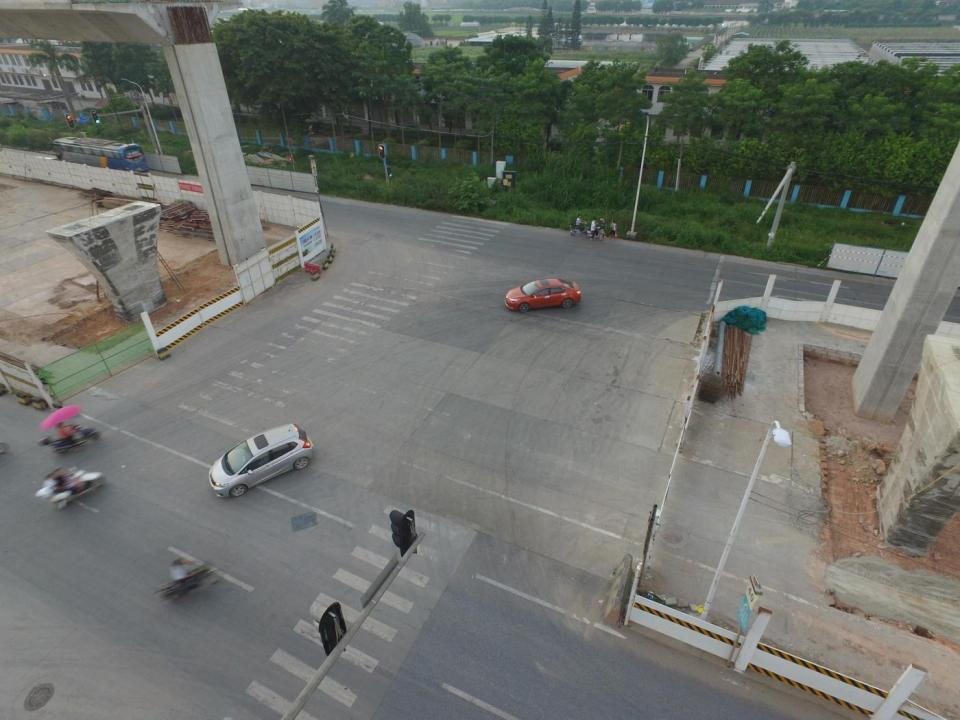bus: (54, 138, 152, 188)
car: (208, 421, 313, 498), (503, 276, 581, 312)
